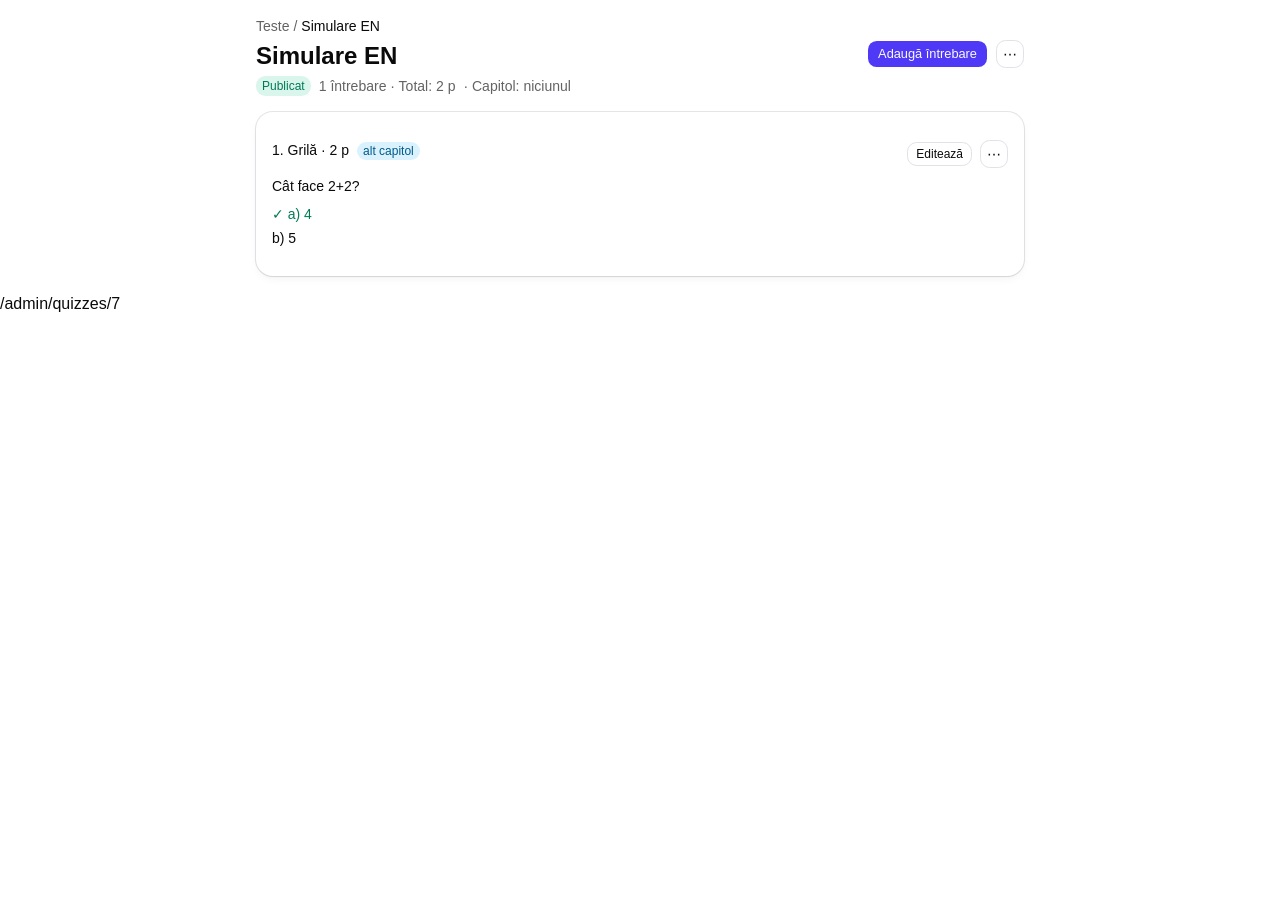
Test: AdminQuizzesPage › moves the text import into „…” once the test has its questions
The image size is (1280, 900).
Check: the text "Cât face 2+2?" is shown, box [272,178,360,194]
Check: the button "Importă din text" is not shown
Click the button named "Mai multe acțiuni pentru Simulare EN" at coordinates (1010, 54), box [996,40,1024,68]
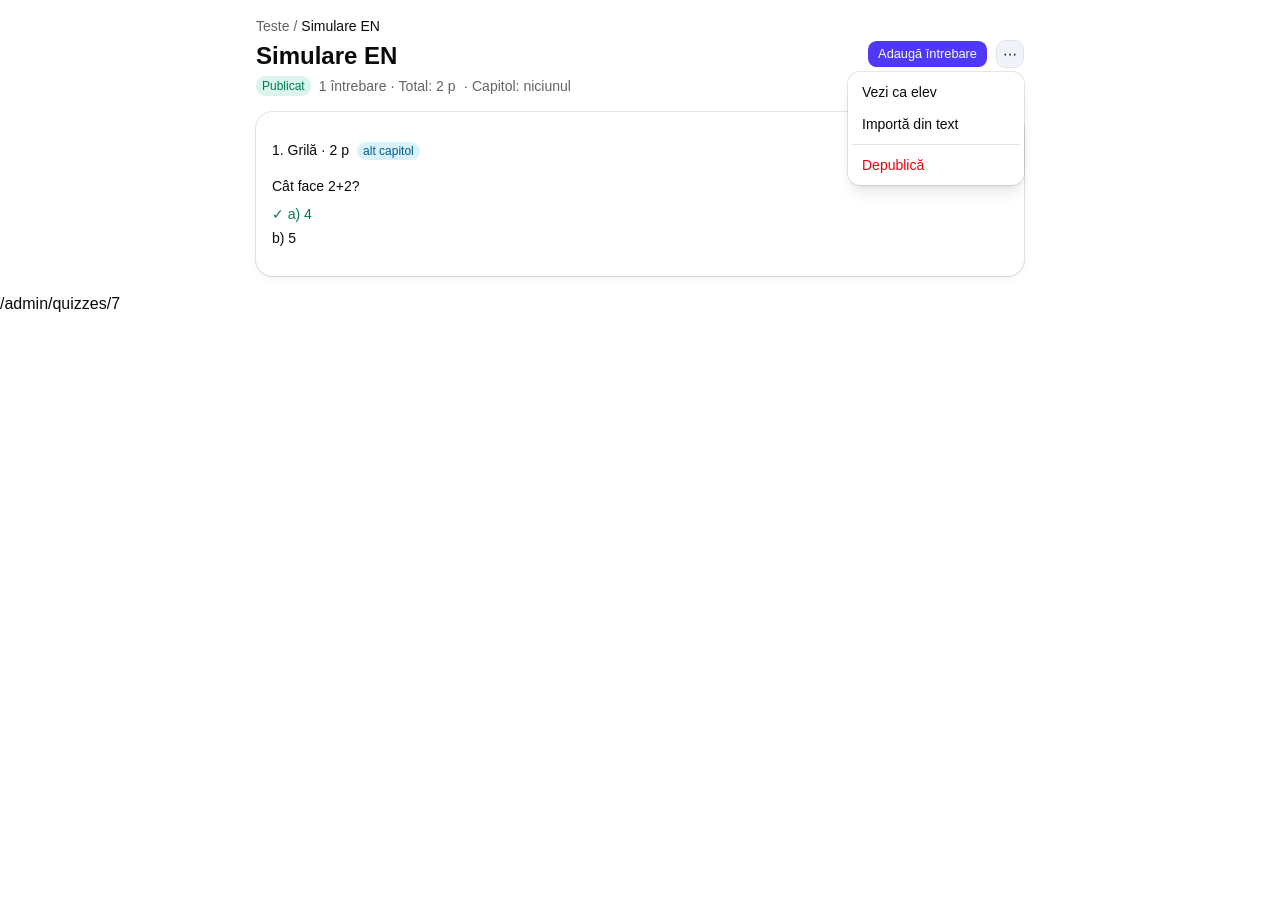
Click the menu item "Importă din text" at coordinates (910, 124), box [862,116,958,132]
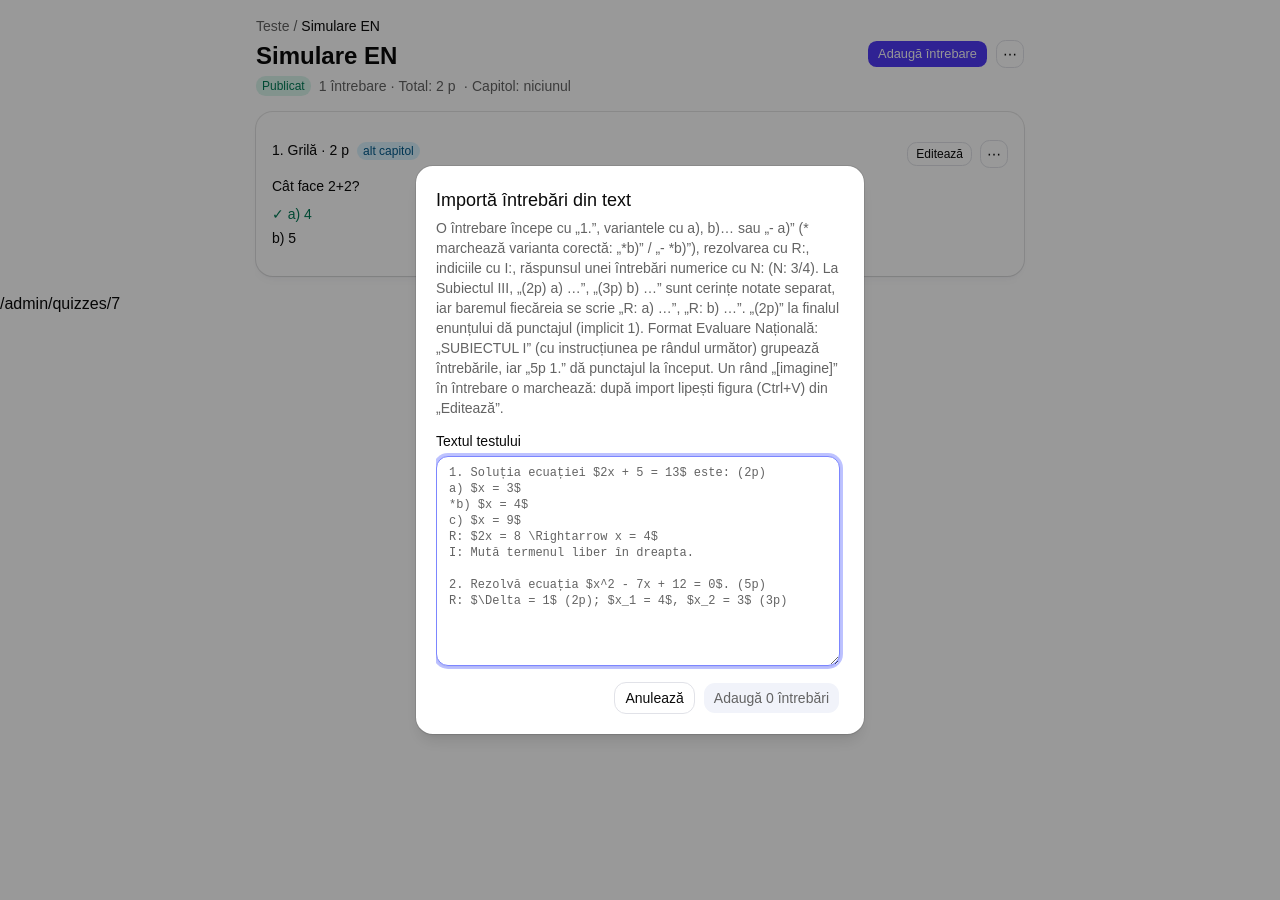
Check: the dialog "Importă întrebări din text" is shown, box [416,166,864,734]
